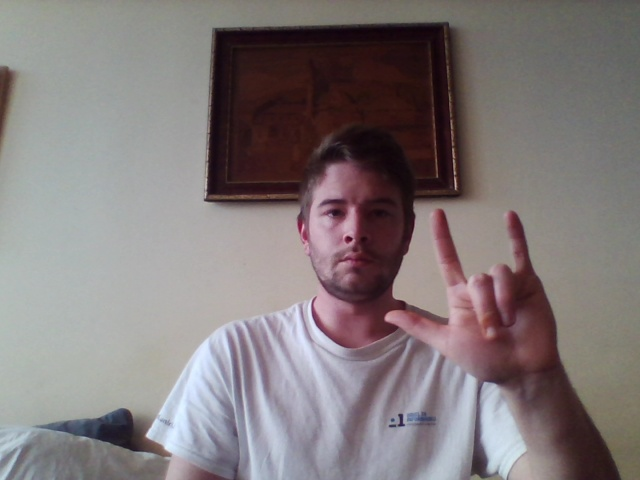volimte: (378, 205, 564, 384)
